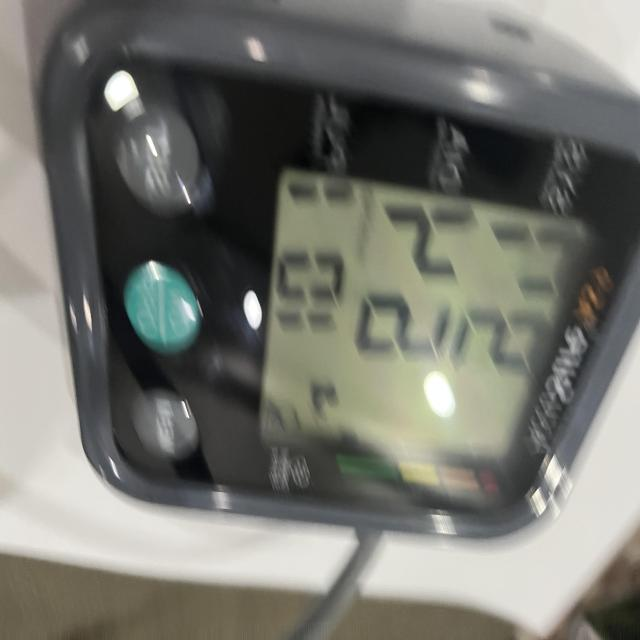bp: (30, 0, 640, 544)
